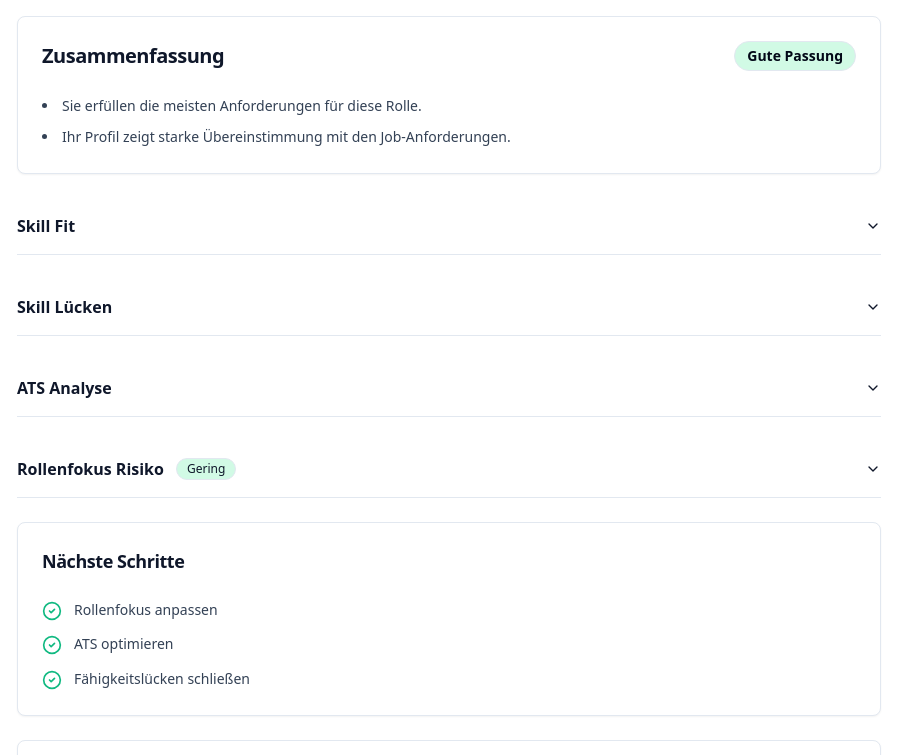
Test: ResultsScreen › ATS Analysis section › should render ATSScoreBreakdown component
Click the button "ATS Analyse". click: (64, 388)
box: [17,360,881,416]
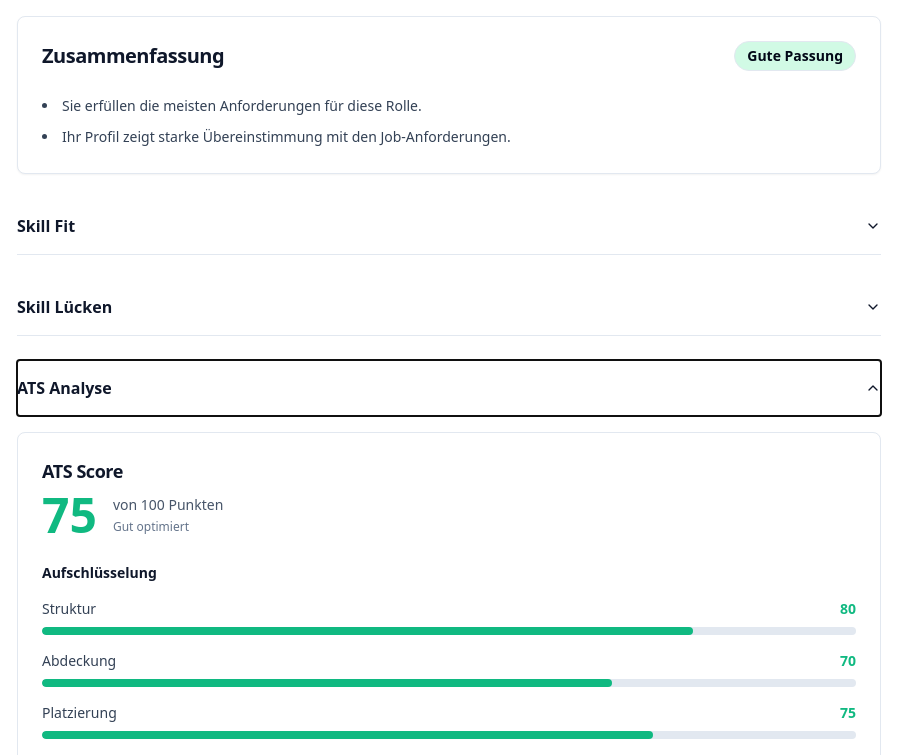
Now the heading "ATS Score" is shown, box [42,458,123,482]
Now the text named "Gesamt ATS Score: 75 von 100" is shown, box [42,490,97,538]
